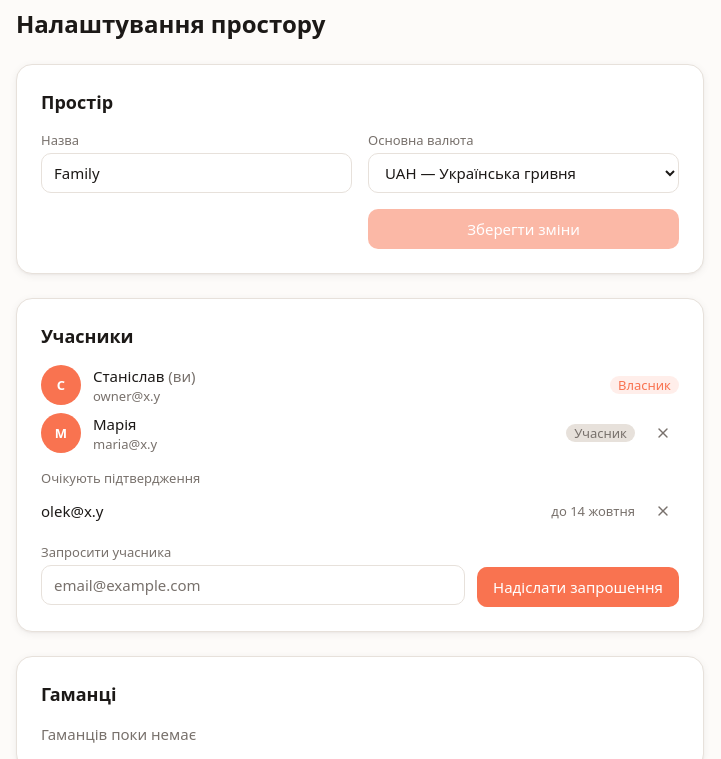
Settings — space management › says why revoking an invitation failed
This screenshot has width=721, height=759.
Click the button named "Відкликати: olek@x.y" at (663, 511), box [647,495,679,527]
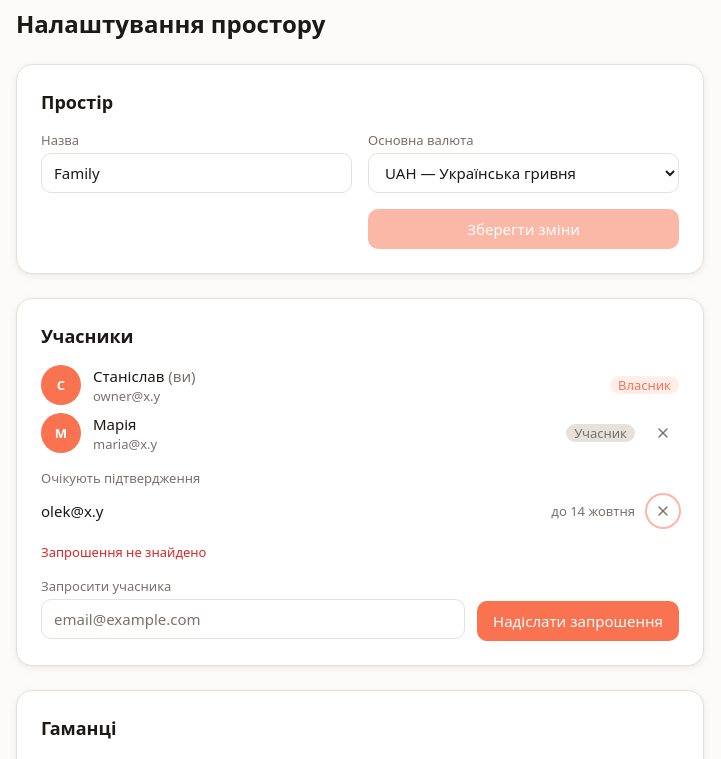
Check: the message "Запрошення не знайдено" is shown, box [41,543,206,561]
